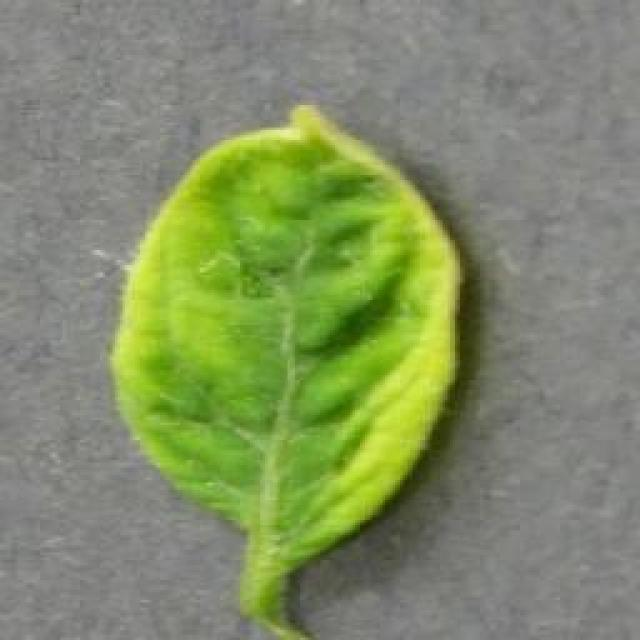Tom_Yellow_Leaf_Curl_Virus: (145, 132, 465, 522)
